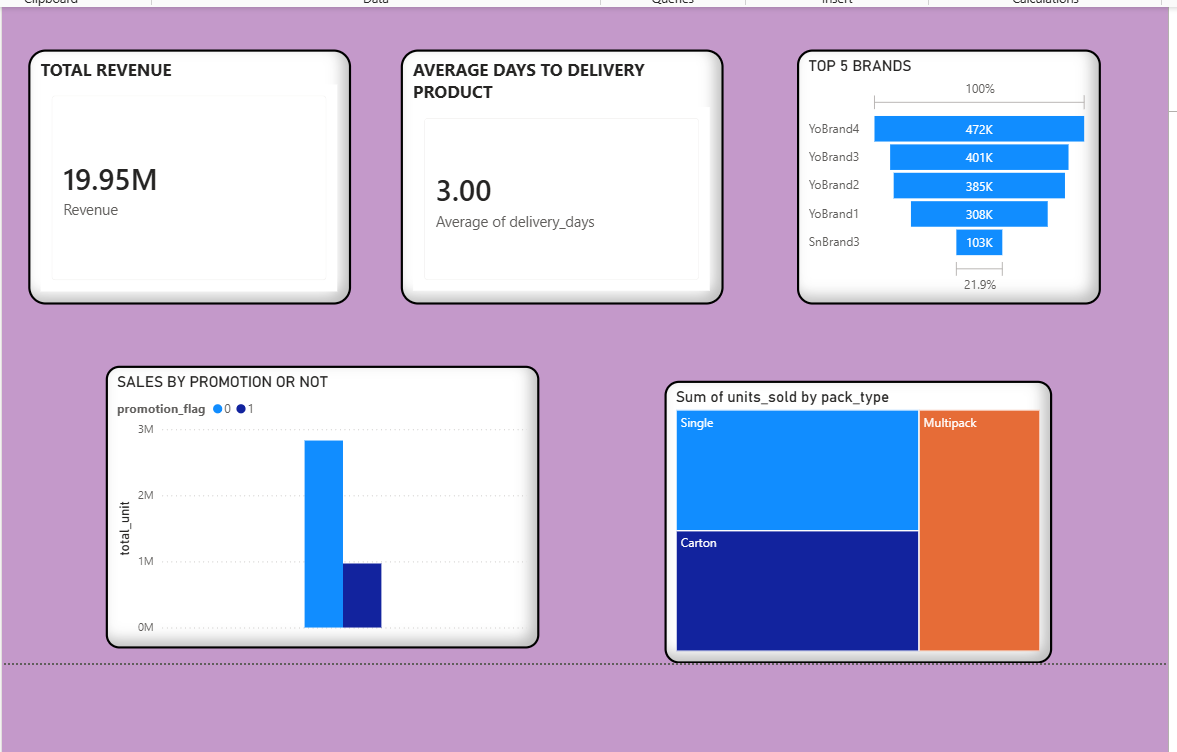

What the dashboard file says about the page in this screenshot:
{"tool":"powerbi","page":{"name":"Page 2","canvas":[1280,720],"ordinal":1},"visuals":[{"type":"lineClusteredColumnComboChart","title":"SALES BY PROMOTION OR NOT","fields":{"Y":["FMCG_Cleaned.total_unit"],"Series":["FMCG_Cleaned.promotion_flag"]},"box":[113.9,393.8,476.2,310.1],"z":0},{"type":"cardVisual","title":"AVERAGE  DAYS  TO DELIVERY PRODUCT","fields":{"Data":["Avg(FMCG_Cleaned.delivery_days)"]},"box":[437.7,46.7,354,279.9],"z":1000},{"type":"treemap","fields":{"Group":["FMCG_Cleaned.pack_type"],"Values":["Sum(FMCG_Cleaned.units_sold)"]},"box":[701.2,393.8,454.2,310.1],"z":2000},{"type":"funnel","title":"TOP 5 BRANDS","fields":{"Category":["FMCG_Cleaned.brand"],"Y":["Sum(FMCG_Cleaned.units_sold)"]},"box":[872.7,46.7,333.4,279.9],"z":3000},{"type":"cardVisual","title":"TOTAL REVENUE","fields":{"Data":["FMCG_Cleaned.Revenue"]},"box":[28.8,46.7,354,279.9],"z":3001}]}

Visuals, with their boxes in screenshot pixels (x1, y1, x2, y2):
"SALES BY PROMOTION OR NOT" lineClusteredColumnComboChart: {"left": 103, "top": 363, "right": 535, "bottom": 644}
"AVERAGE  DAYS  TO DELIVERY PRODUCT" cardVisual: {"left": 397, "top": 48, "right": 718, "bottom": 302}
treemap - FMCG_Cleaned.pack_type x Sum(FMCG_Cleaned.units_sold): {"left": 636, "top": 363, "right": 1048, "bottom": 644}
"TOP 5 BRANDS" funnel: {"left": 791, "top": 48, "right": 1094, "bottom": 302}
"TOTAL REVENUE" cardVisual: {"left": 26, "top": 48, "right": 347, "bottom": 302}
